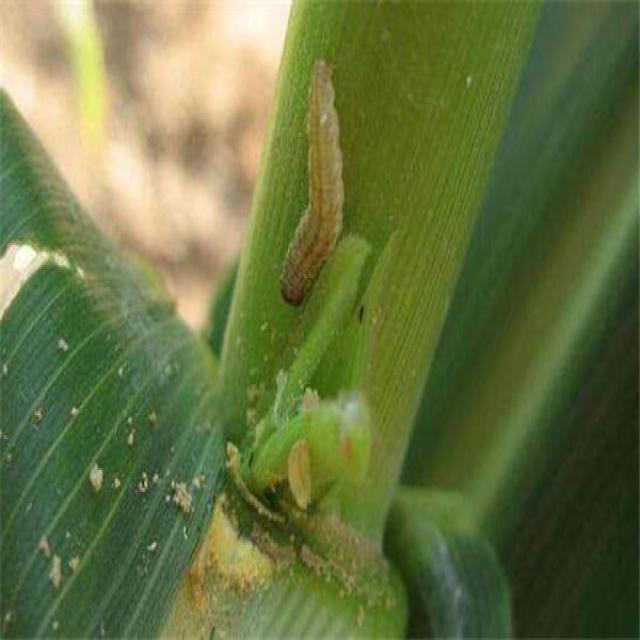pest: (288, 66, 345, 318)
